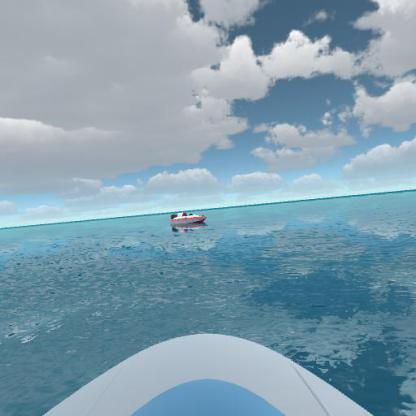usv3: (169, 208, 210, 233)
